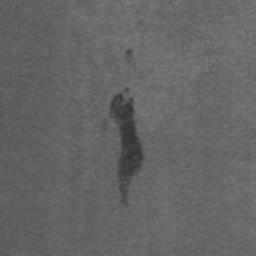Iron scale compression: (110, 88, 144, 207), (125, 49, 133, 63)
